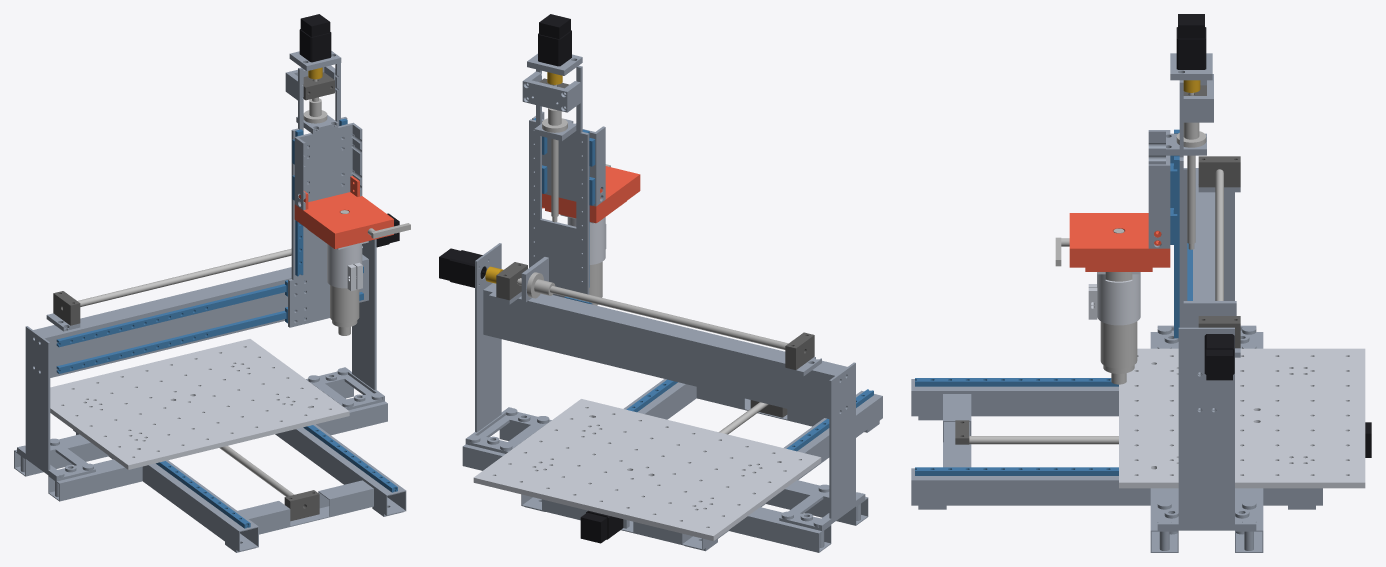
Rendered from light_dock.glb.
The picture shows the model from 3 angles, left to right: view 1: azimuth 30°, elevation 25°; view 2: azimuth 150°, elevation 25°; view 3: azimuth 270°, elevation 25°; orthographic projection. The views are drawn at different scales.
Parts seen in each view (by area): view 1: table, beam, frame_cross_rear, z_slide, upright_L, x_carriage, upright_R, tooldock_master, frame_longeron_L, frame_longeron_R, frame_cross_bf, x_rail_bot (+14 smaller); view 2: table, beam, x_carriage, upright_R, upright_L, frame_cross_rear, z_slide, frame_longeron_L, tooldock_master, x_screw, frame_longeron_R, z_motor (+12 smaller); view 3: table, upright_R, frame_longeron_R, frame_longeron_L, tooldock_master, frame_cross_rear, upright_L, z_slide, beam, head_mount, head_spindle, y_rail_R (+15 smaller).
Part boxes in pixels (left/top/right/bottom): table: left=50, top=339, right=349, bottom=469; beam: left=33, top=254, right=368, bottom=377; frame_cross_rear: left=14, top=371, right=387, bottom=501; z_slide: left=294, top=122, right=362, bottom=210; upright_L: left=17, top=326, right=95, bottom=481; x_carriage: left=288, top=63, right=347, bottom=327; upright_R: left=306, top=239, right=384, bottom=410; tooldock_master: left=294, top=176, right=393, bottom=248; frame_longeron_L: left=73, top=430, right=258, bottom=552; frame_longeron_R: left=275, top=424, right=406, bottom=516; frame_cross_bf: left=238, top=480, right=373, bottom=534; x_rail_bot: left=56, top=292, right=363, bottom=373; table: left=473, top=399, right=821, bottom=540; beam: left=483, top=283, right=846, bottom=418; x_carriage: left=529, top=65, right=593, bottom=304; upright_R: left=465, top=243, right=551, bottom=453; upright_L: left=779, top=362, right=865, bottom=530; frame_cross_rear: left=462, top=412, right=868, bottom=552; z_slide: left=532, top=111, right=605, bottom=206; frame_longeron_L: left=681, top=390, right=882, bottom=551; tooldock_master: left=542, top=166, right=640, bottom=223; x_screw: left=517, top=278, right=788, bottom=349; frame_longeron_R: left=521, top=379, right=696, bottom=511; z_motor: left=538, top=14, right=571, bottom=66; table: left=1119, top=348, right=1365, bottom=488; upright_R: left=1157, top=327, right=1256, bottom=530; frame_longeron_R: left=911, top=468, right=1322, bottom=509; frame_longeron_L: left=911, top=379, right=1118, bottom=420; tooldock_master: left=1069, top=213, right=1170, bottom=267; frame_cross_rear: left=1150, top=332, right=1263, bottom=552; upright_L: left=1157, top=168, right=1256, bottom=348; z_slide: left=1148, top=130, right=1170, bottom=248; beam: left=1193, top=169, right=1215, bottom=410; head_mount: left=1088, top=272, right=1140, bottom=325; head_spindle: left=1100, top=272, right=1137, bottom=384; y_rail_R: left=915, top=467, right=1118, bottom=475.
Bounding box in the file's own units: 737 × 789 × 654.
